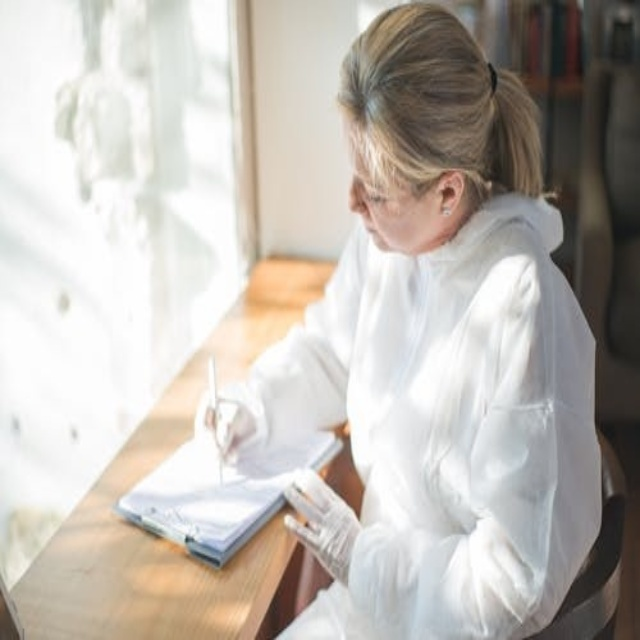Guantes: (284, 470, 361, 585), (194, 380, 263, 462)
Sin_gafas: (349, 161, 403, 217)
Sin_mascara: (355, 215, 398, 255)
